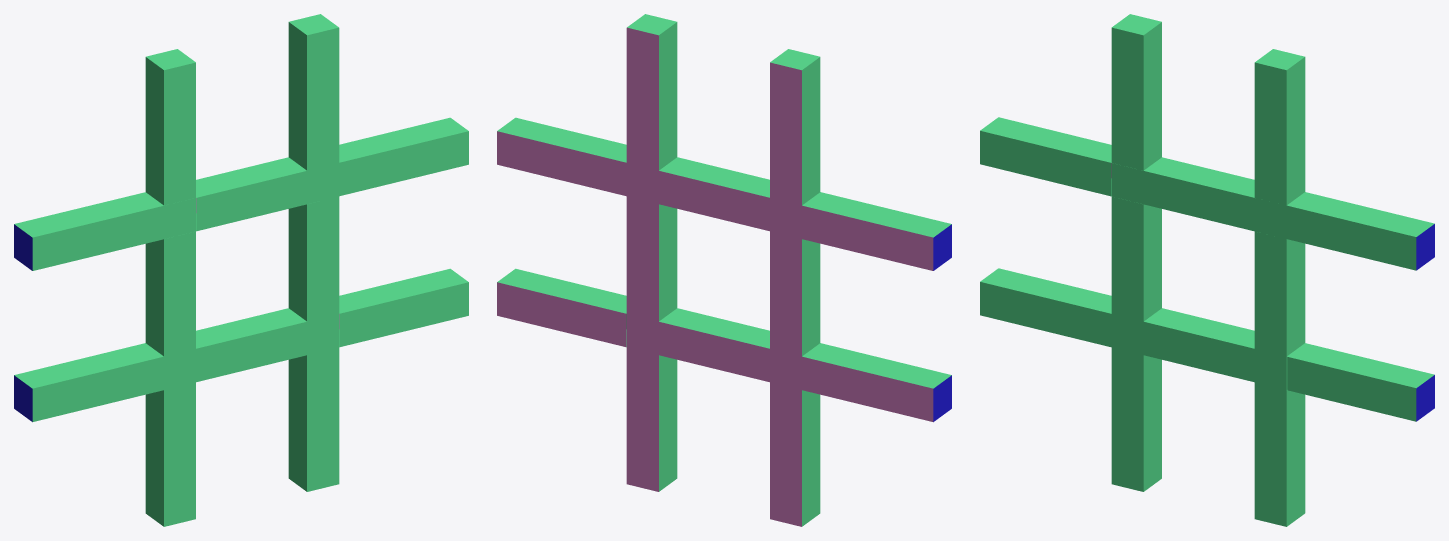
3 views of the same model, side by side, from view 1: azimuth 30°, elevation 25°; view 2: azimuth 150°, elevation 25°; view 3: azimuth 330°, elevation 25° (orthographic).
Visible parts, largest first — view 1: Cube.005, Cube.012, Cube.013; view 2: Cube.005, Cube.001, Cube.002, Cube.006, Cube.009, Cube.003, Cube.007, Cube.008, Cube.004, Cube.012, Cube.013; view 3: Cube.005, Cube.010, Cube.011.
Boxes of the visible parts, x1,y1,x2,y2 form: Cube.005: (14,14,468,526); Cube.012: (14,224,32,270); Cube.013: (14,375,32,421); Cube.005: (497,14,951,526); Cube.001: (626,27,658,491); Cube.002: (770,62,801,526); Cube.006: (802,205,933,270); Cube.009: (802,356,933,421); Cube.003: (497,131,626,196); Cube.007: (497,282,626,346); Cube.008: (658,322,769,382); Cube.004: (659,171,769,231); Cube.012: (933,224,951,270); Cube.013: (933,375,951,421); Cube.005: (980,14,1434,526); Cube.010: (1416,224,1434,270); Cube.011: (1416,375,1434,421).
Size of the model in its own units: 3.06 by 3.06 by 0.2256.
